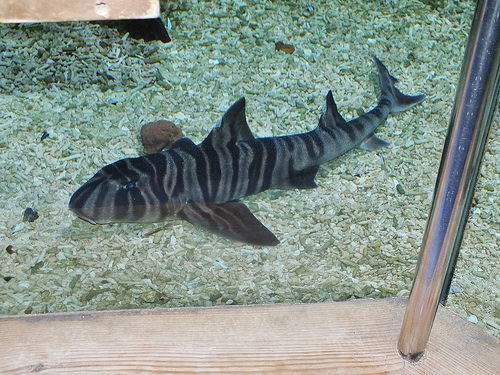shark: (50, 56, 427, 257)
